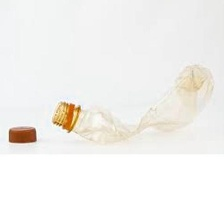bottle: (48, 59, 216, 148)
